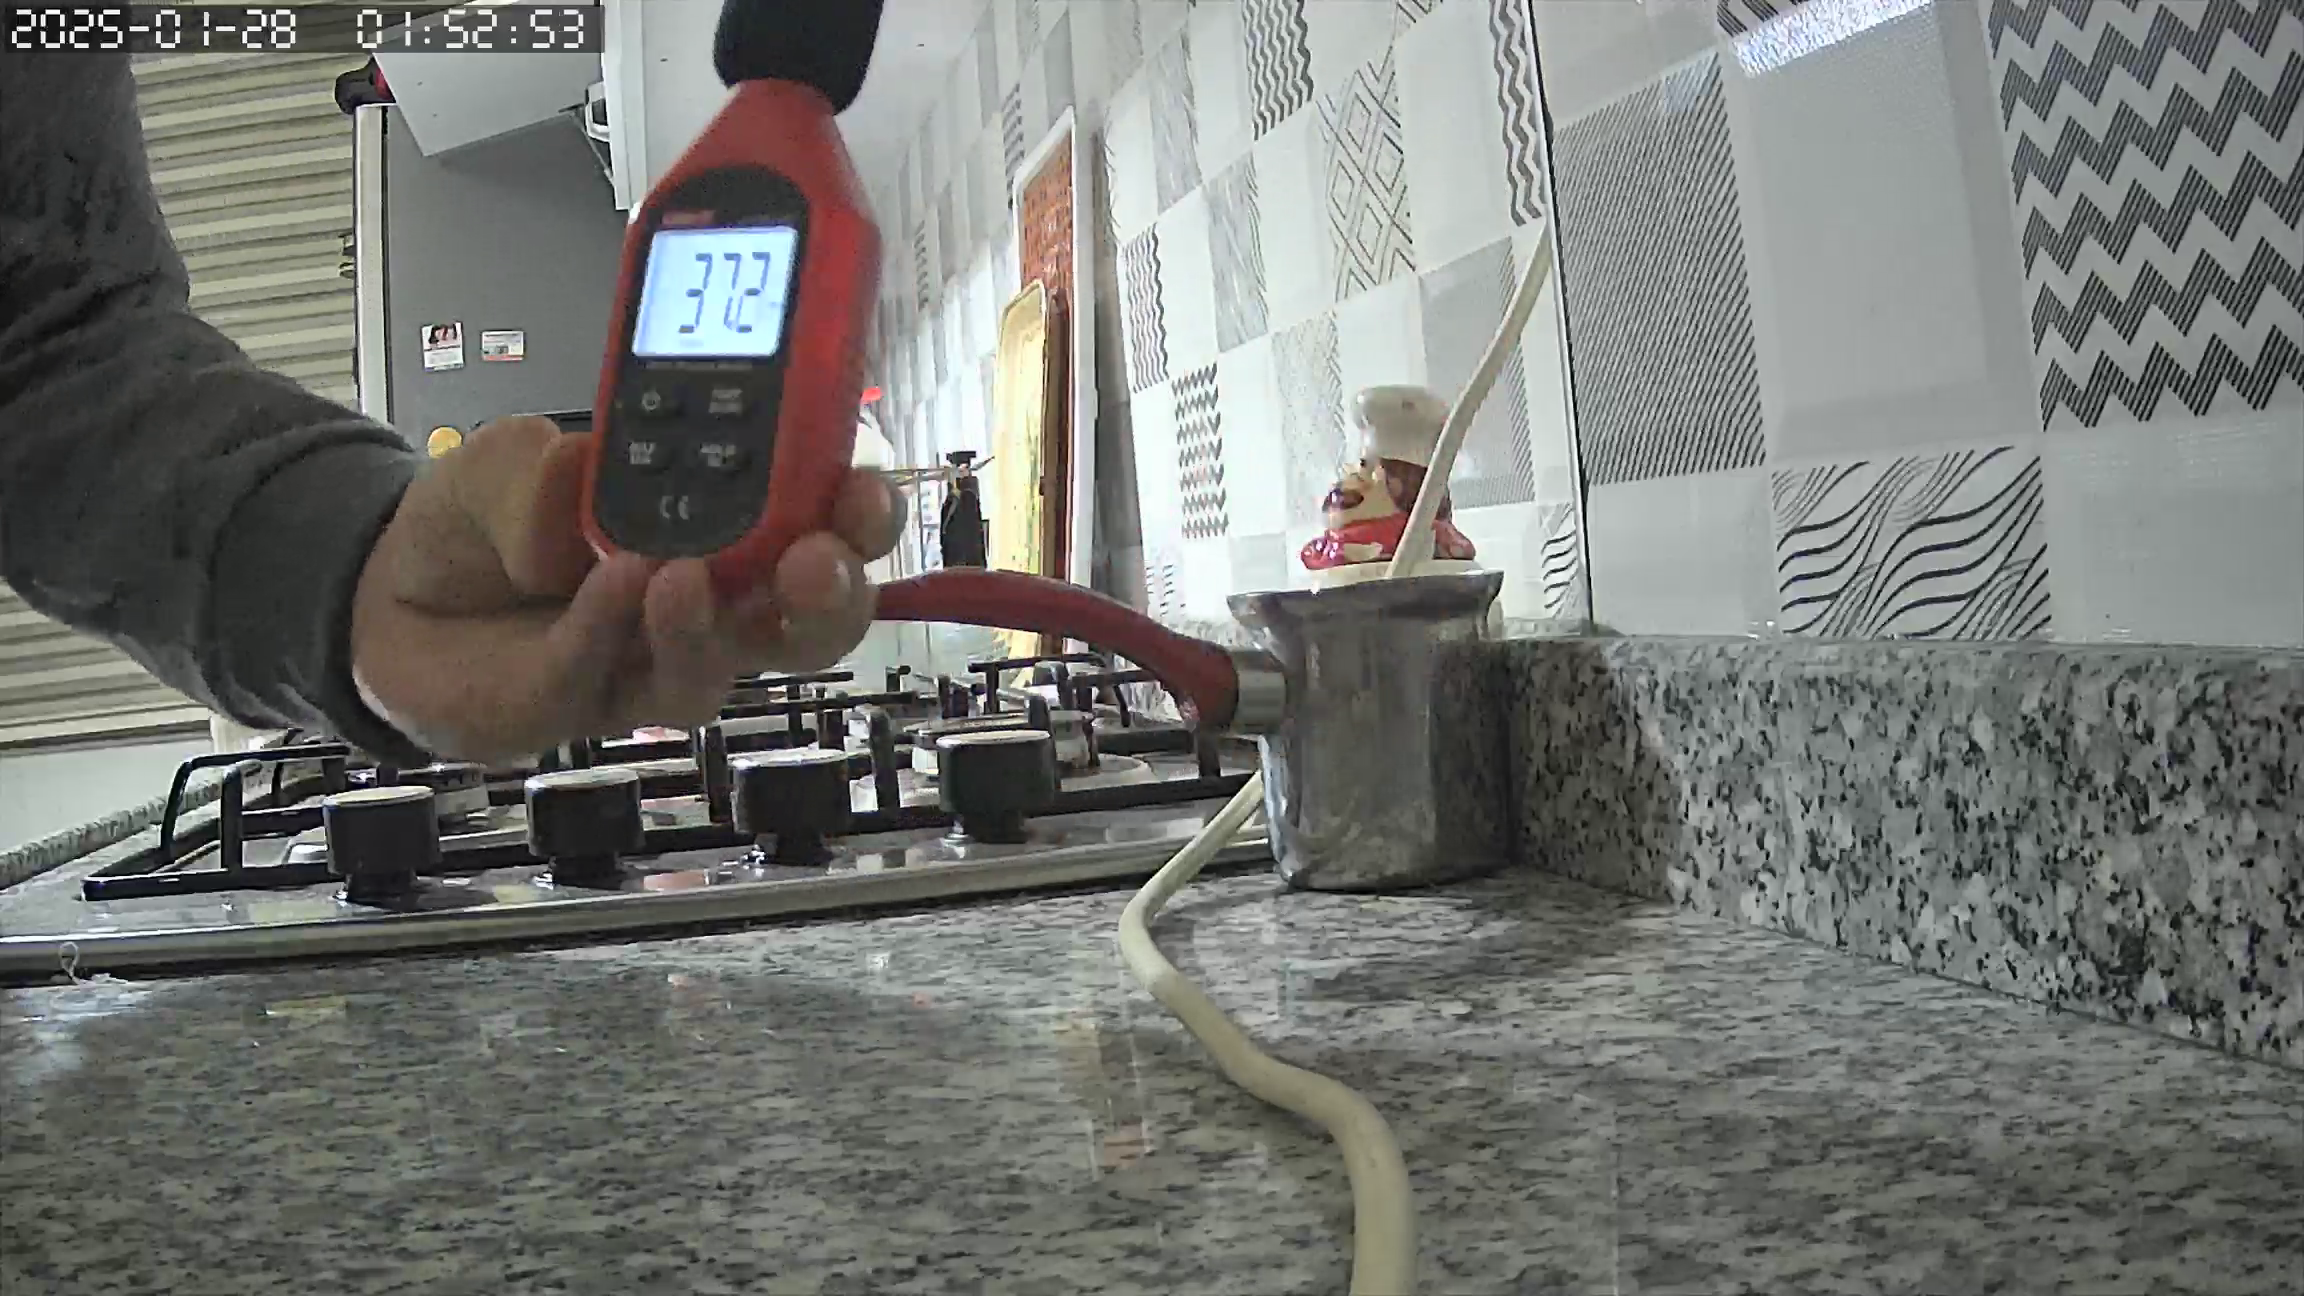screen: (630, 226, 796, 361)
